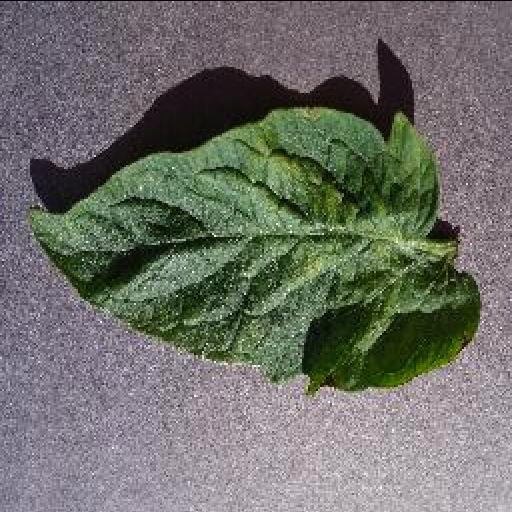disease_tomato: (27, 104, 481, 396)
